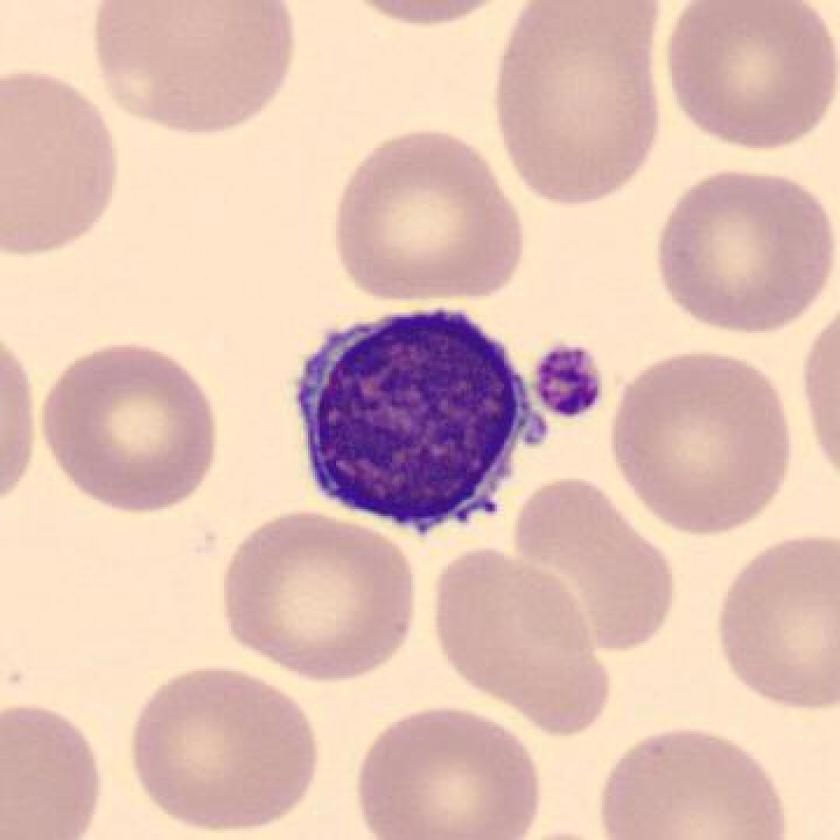lymphocyte: (281, 288, 556, 552)
